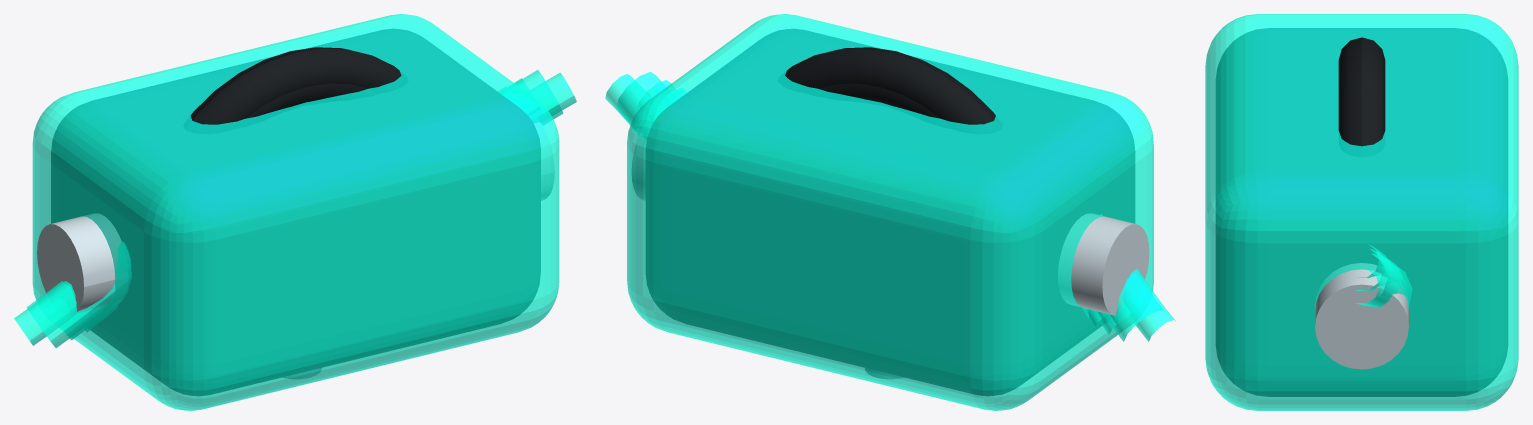
File: g4ed_cylinder_head_combustion.glb
3 renders of one model, left to right at view 1: azimuth 30°, elevation 25°; view 2: azimuth 150°, elevation 25°; view 3: azimuth 270°, elevation 25°, orthographic.
Parts seen in each view (by area): view 1: asset_mesh__g4ed_062__reference_body, asset_mesh__g4ed_061__reference_body, asset_mesh__g4ed_075__reference_seal, asset_mesh__g4ed_061__reference_axis, asset_mesh__g4ed_068__reference_flow_path, asset_mesh__g4ed_069__reference_flow_path, asset_mesh__g4ed_074__reference_seal, asset_mesh__g4ed_067__reference_flow_path; view 2: asset_mesh__g4ed_062__reference_body, asset_mesh__g4ed_061__reference_body, asset_mesh__g4ed_075__reference_seal, asset_mesh__g4ed_061__reference_axis, asset_mesh__g4ed_068__reference_flow_path, asset_mesh__g4ed_069__reference_flow_path, asset_mesh__g4ed_074__reference_seal, asset_mesh__g4ed_067__reference_flow_path; view 3: asset_mesh__g4ed_062__reference_body, asset_mesh__g4ed_061__reference_body, asset_mesh__g4ed_061__reference_axis, asset_mesh__g4ed_075__reference_seal, asset_mesh__g4ed_068__reference_flow_path, asset_mesh__g4ed_069__reference_flow_path, asset_mesh__g4ed_067__reference_flow_path.
Boxes of the visible parts, x1,y1,x2,y2 form: asset_mesh__g4ed_062__reference_body: (32, 14, 559, 410); asset_mesh__g4ed_061__reference_body: (51, 29, 540, 395); asset_mesh__g4ed_075__reference_seal: (183, 47, 408, 133); asset_mesh__g4ed_061__reference_axis: (37, 122, 554, 313); asset_mesh__g4ed_068__reference_flow_path: (26, 70, 563, 348); asset_mesh__g4ed_069__reference_flow_path: (14, 72, 576, 345); asset_mesh__g4ed_074__reference_seal: (235, 83, 378, 128); asset_mesh__g4ed_067__reference_flow_path: (61, 78, 540, 340); asset_mesh__g4ed_062__reference_body: (627, 14, 1153, 410); asset_mesh__g4ed_061__reference_body: (646, 29, 1134, 395); asset_mesh__g4ed_075__reference_seal: (778, 47, 1002, 133); asset_mesh__g4ed_061__reference_axis: (632, 135, 1149, 315); asset_mesh__g4ed_068__reference_flow_path: (616, 72, 1163, 341); asset_mesh__g4ed_069__reference_flow_path: (605, 74, 1175, 341); asset_mesh__g4ed_074__reference_seal: (807, 83, 951, 128); asset_mesh__g4ed_067__reference_flow_path: (638, 80, 1130, 334); asset_mesh__g4ed_062__reference_body: (1205, 14, 1518, 410); asset_mesh__g4ed_061__reference_body: (1216, 28, 1507, 396); asset_mesh__g4ed_061__reference_axis: (1315, 263, 1408, 369); asset_mesh__g4ed_075__reference_seal: (1338, 37, 1385, 156); asset_mesh__g4ed_068__reference_flow_path: (1355, 253, 1411, 305); asset_mesh__g4ed_069__reference_flow_path: (1359, 270, 1399, 307); asset_mesh__g4ed_067__reference_flow_path: (1355, 249, 1395, 291).
Bounding box in the file's own units: 2.2 × 1.2 × 1.07.
